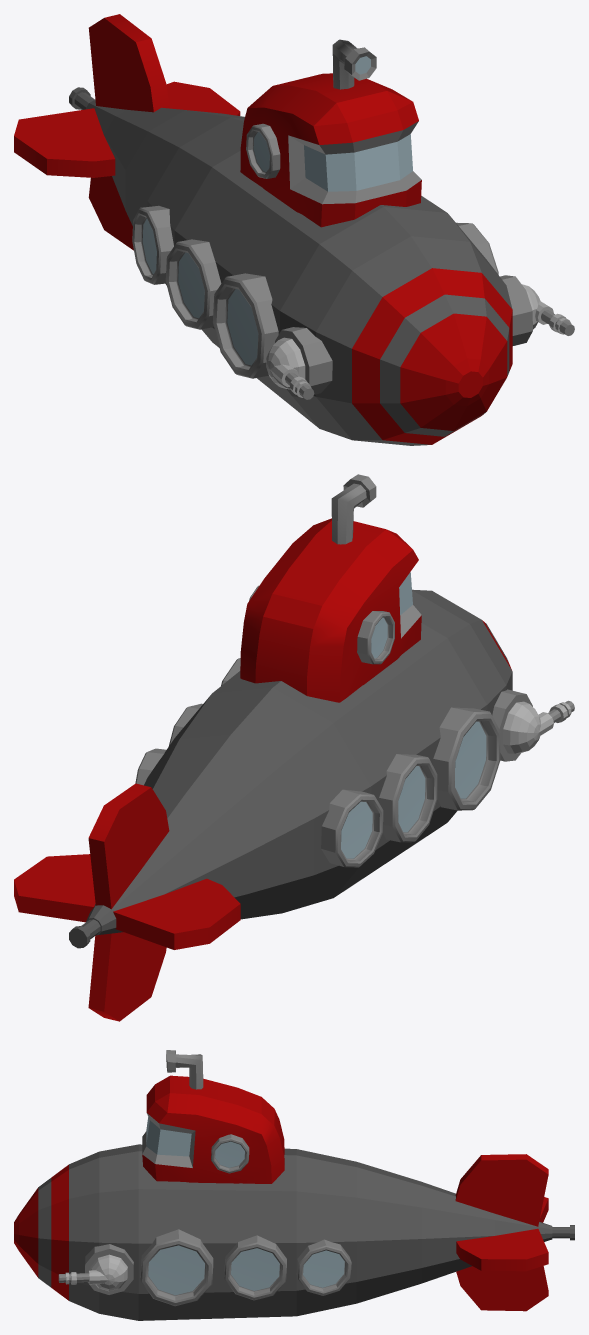
The model's file is boss 2.fbx.
The picture shows the model from 3 angles, top to bottom: view 1: azimuth 30°, elevation 25°; view 2: azimuth 150°, elevation 25°; view 3: azimuth 270°, elevation 25°; orthographic projection. The views are drawn at different scales.
Visible parts, largest first — view 1: polySurface116; view 2: polySurface116; view 3: polySurface116.
Part boxes in pixels (x1=…): polySurface116: x1=14, y1=14, x2=574, y2=445; polySurface116: x1=14, y1=474, x2=574, y2=1021; polySurface116: x1=14, y1=1050, x2=574, y2=1320.
Size of the model in its own units: 4.39 by 5.6 by 10.85.
